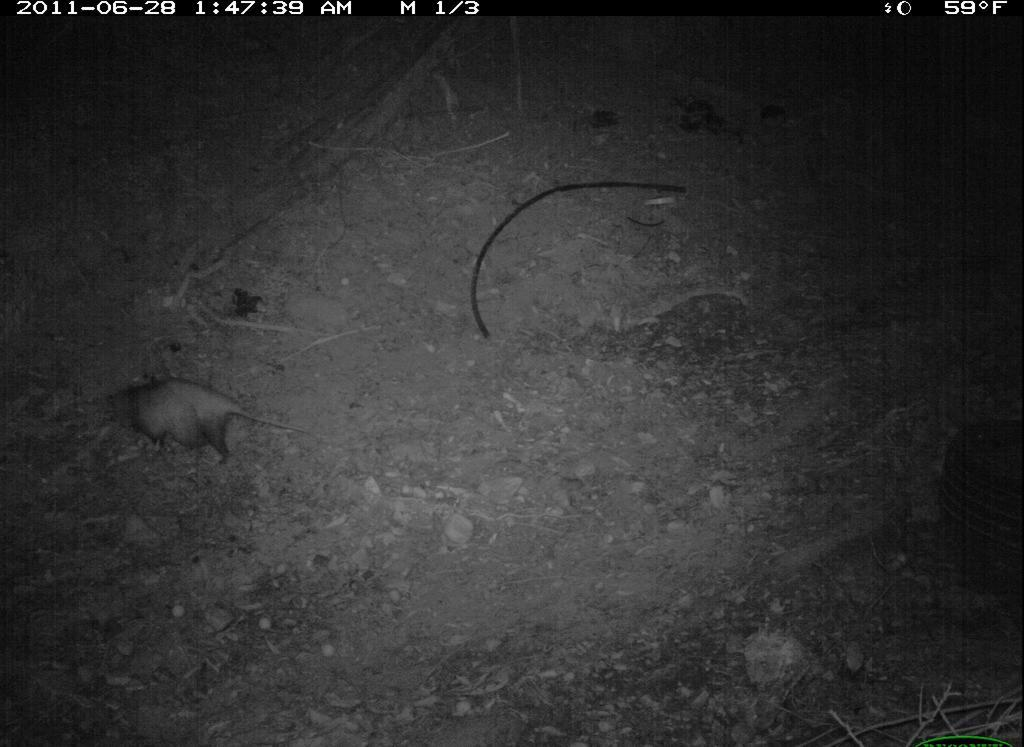opossum: (97, 367, 337, 475)
